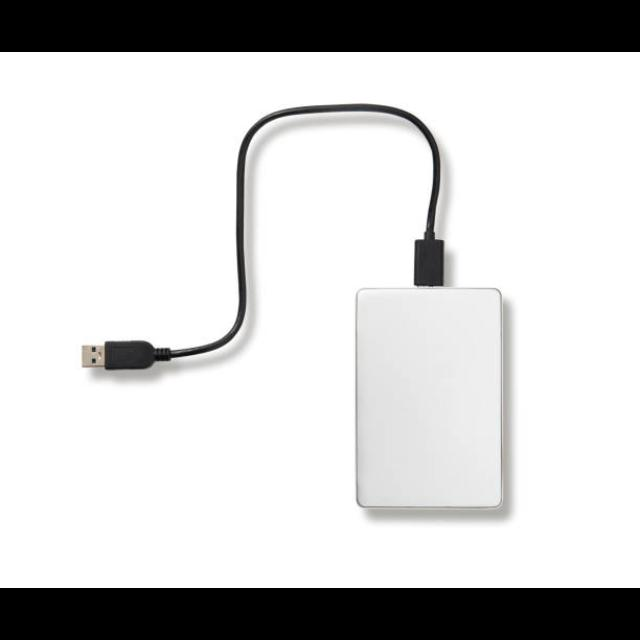HDD: (356, 150, 504, 511)
